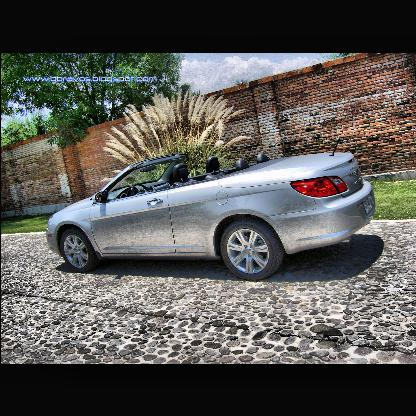Chrysler Sebring Convertible 2010: (45, 151, 380, 275)
